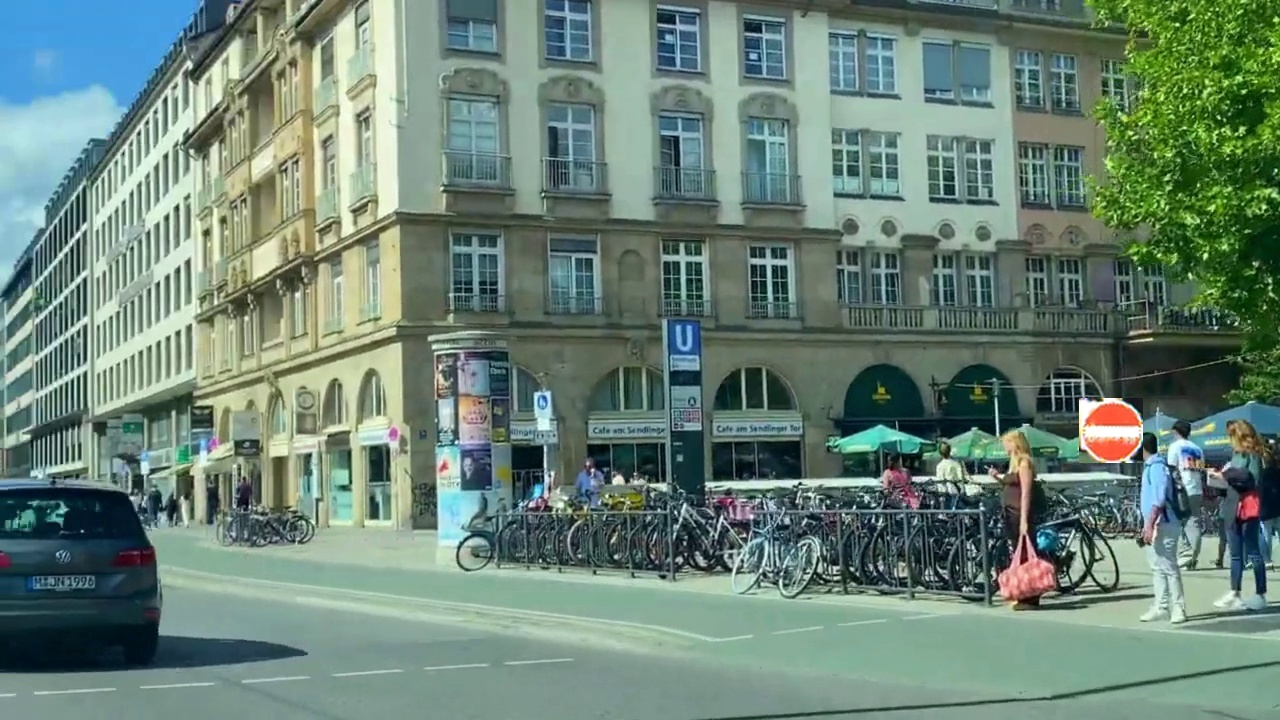No entry: (1079, 398, 1143, 463)
